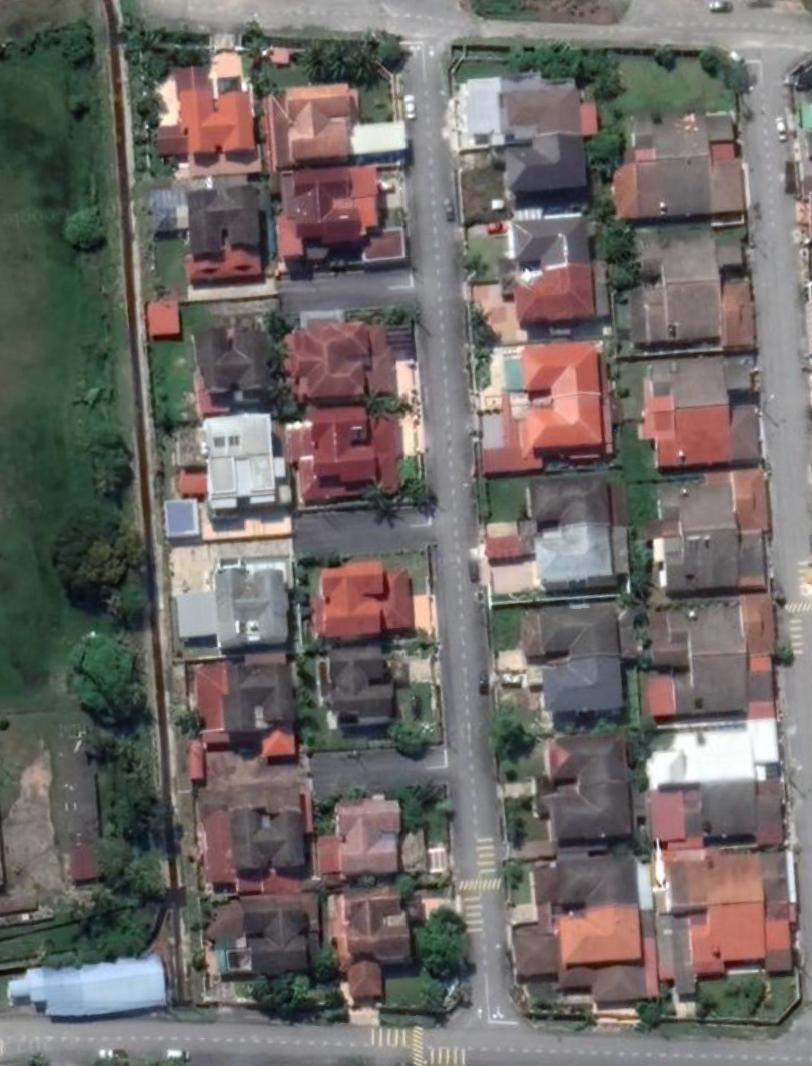building: (179, 653, 309, 788), (268, 162, 417, 277), (137, 169, 271, 295), (274, 299, 426, 409), (502, 911, 661, 1010), (166, 546, 298, 663), (658, 900, 803, 1004), (1, 946, 179, 1030), (278, 401, 410, 513), (169, 411, 294, 528), (148, 43, 263, 169), (194, 779, 317, 896), (321, 884, 433, 1011), (260, 77, 416, 168), (441, 63, 602, 151), (198, 890, 328, 986), (472, 398, 619, 482), (312, 788, 434, 883), (606, 152, 754, 228), (639, 778, 797, 849), (628, 278, 764, 356), (304, 551, 419, 643), (637, 594, 783, 666), (641, 526, 780, 601), (637, 656, 783, 727), (652, 846, 801, 914), (639, 718, 791, 783), (633, 405, 772, 475), (311, 643, 416, 735), (639, 468, 778, 537), (187, 316, 278, 417), (635, 349, 763, 413), (526, 853, 657, 915), (516, 601, 642, 663), (494, 270, 616, 334), (499, 338, 618, 402), (485, 137, 596, 204), (617, 103, 743, 159), (518, 469, 631, 530), (532, 530, 638, 595), (531, 788, 643, 848), (501, 202, 594, 274), (627, 232, 757, 282), (538, 728, 636, 792), (534, 661, 632, 724)
